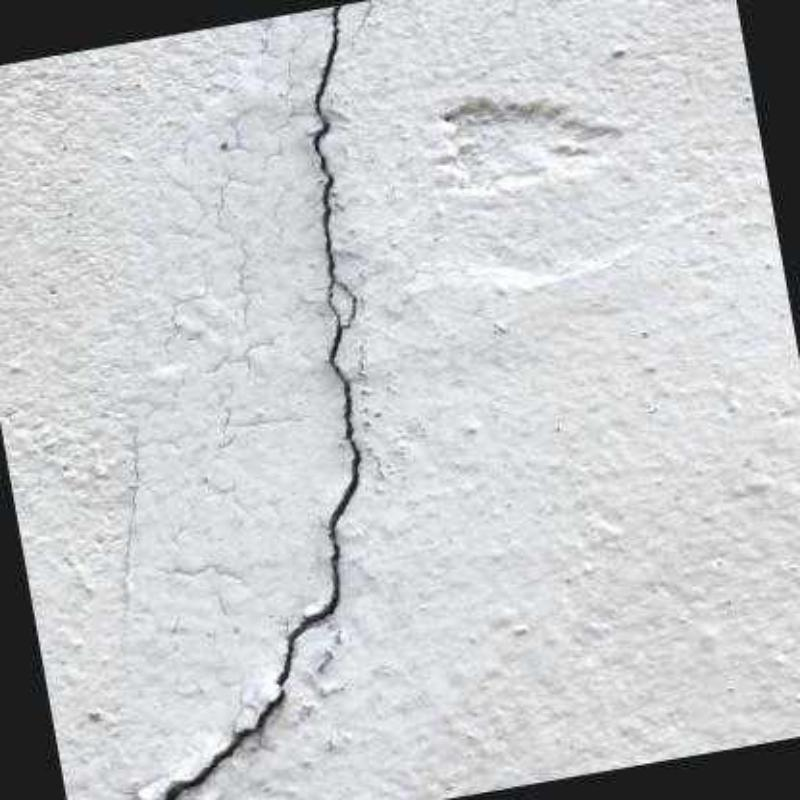crack: (157, 5, 364, 799)
